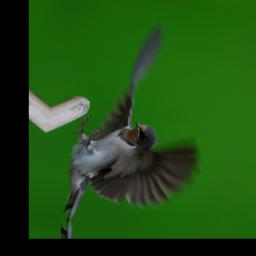Swallow: (57, 18, 227, 231)
